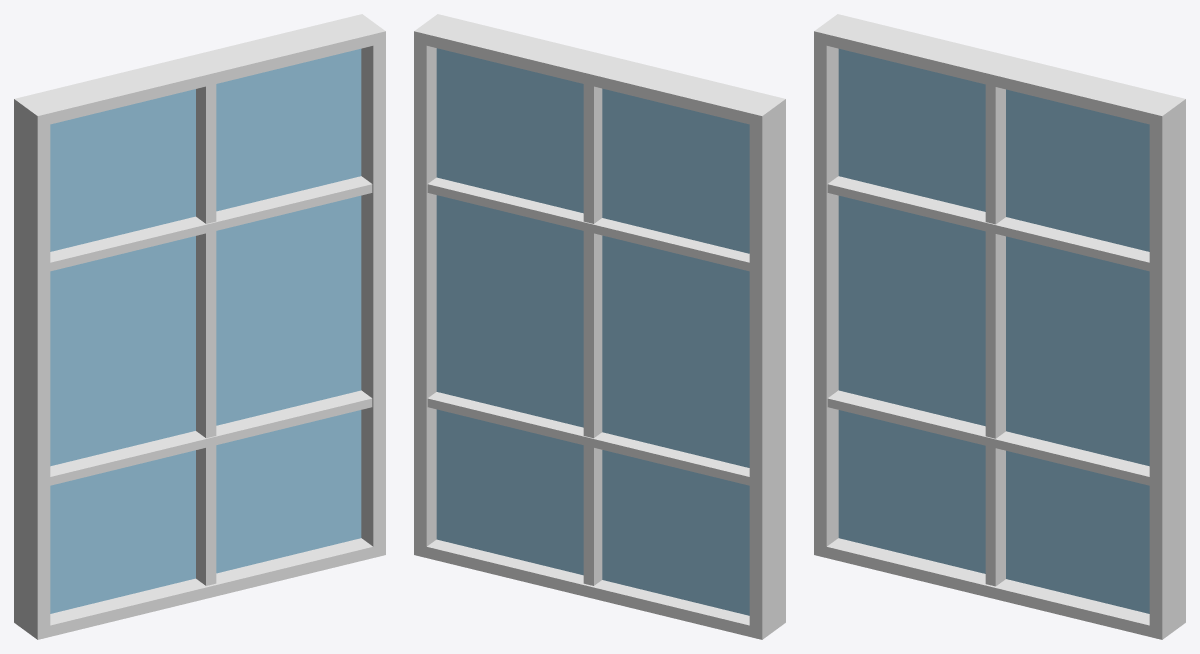
The model's file is window_023.glb.
3 views of the same model, side by side, from view 1: azimuth 30°, elevation 25°; view 2: azimuth 150°, elevation 25°; view 3: azimuth 330°, elevation 25° (orthographic).
Visible parts, largest first — view 1: window_023; view 2: window_023; view 3: window_023.
Boxes of the visible parts, x1,y1,x2,y2 form: window_023: (14, 14, 385, 639); window_023: (414, 14, 785, 639); window_023: (814, 14, 1185, 639).
Bounding box in the file's own units: 1.92 × 2.76 × 0.2249.
Materials: 1 (1 with a texture image).
